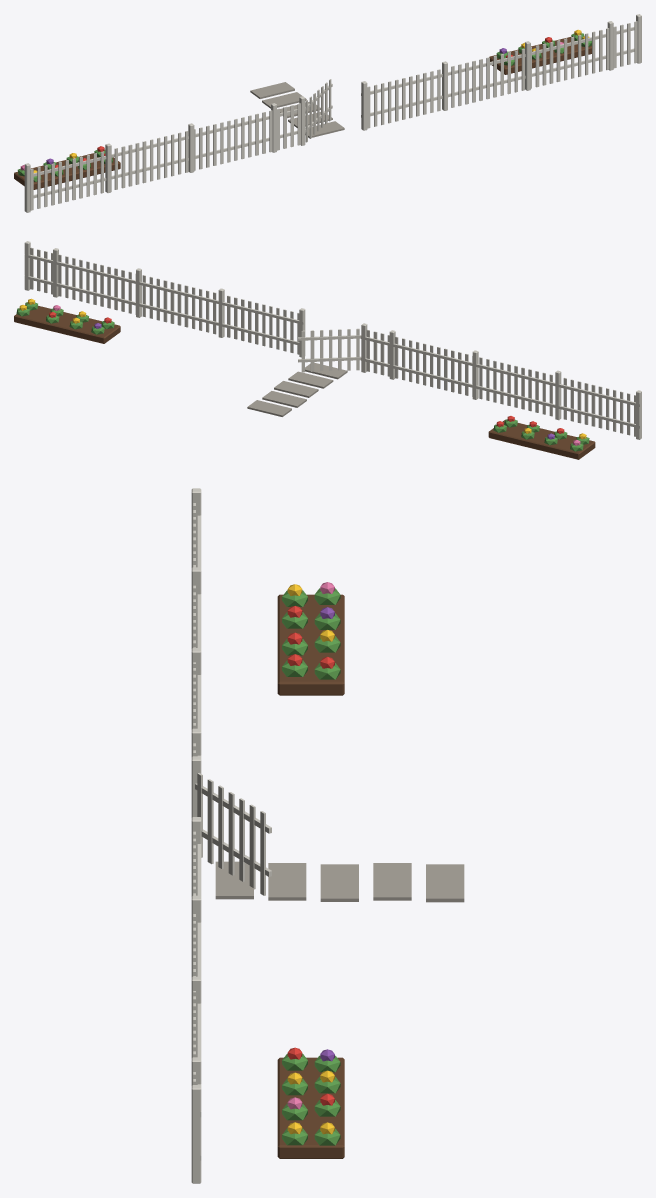
The model's file is Yard_Picket_13.fbx.
The picture shows the model from 3 angles, top to bottom: view 1: azimuth 30°, elevation 25°; view 2: azimuth 150°, elevation 25°; view 3: azimuth 270°, elevation 25°; orthographic projection. The views are drawn at different scales.
Visible parts, largest first — view 1: Yard_Picket_13; view 2: Yard_Picket_13; view 3: Yard_Picket_13.
Boxes of the visible parts, x1,y1,x2,y2 form: Yard_Picket_13: (14,14,641,212); Yard_Picket_13: (14,241,641,459); Yard_Picket_13: (191,488,464,1183).
Size of the model in its own units: 14.87 by 1.1 by 2.85.
